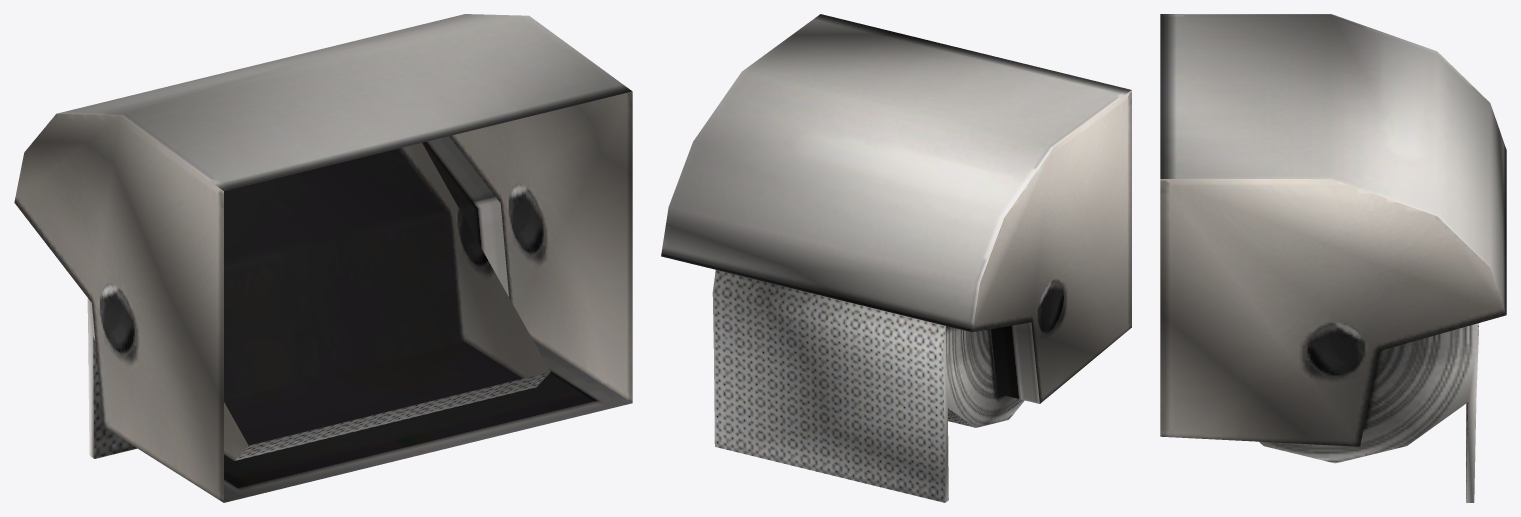
File: klopapierhalter.glb
3 renders of one model, left to right at view 1: azimuth 30°, elevation 25°; view 2: azimuth 150°, elevation 25°; view 3: azimuth 270°, elevation 25°, orthographic. The views are drawn at different scales.
Visible parts, largest first — view 1: Box01; view 2: Box01; view 3: Box01.
Boxes of the visible parts, bbox=[...] form: Box01: bbox=[14, 14, 632, 502]; Box01: bbox=[661, 14, 1131, 502]; Box01: bbox=[1160, 14, 1506, 502].
Bounding box in the file's own units: 10.56 × 10.29 × 9.37.
1 material, 1 textured.
